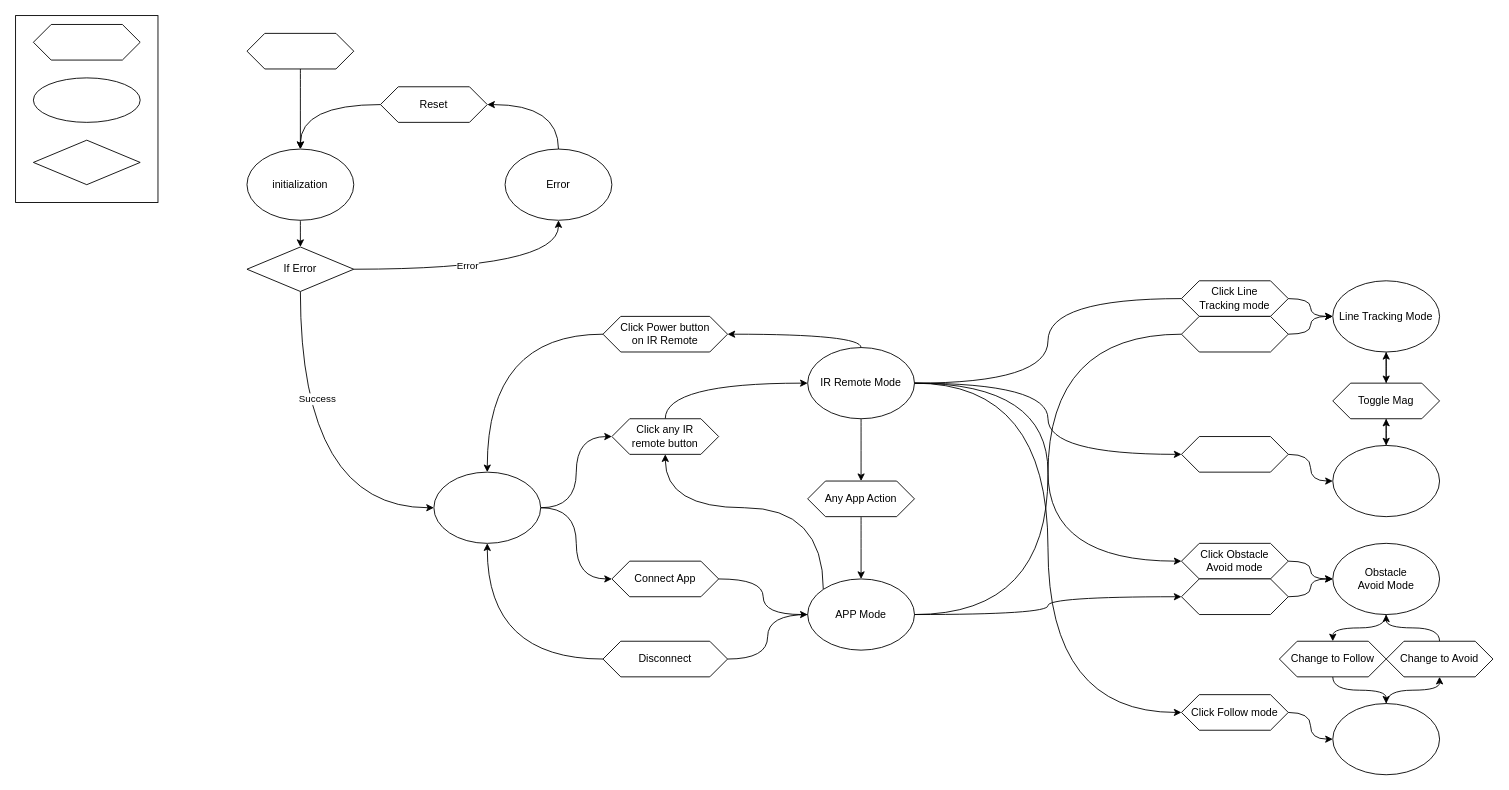
This 1509x790 diagram has some shape labels left out. Each missing label, with the centre of its shape:
"Change To Obstacle mode" goes at (1234,596).
"Change To Tracking mode" goes at (1234,334).
"Click No Mag Line Tracking mode" goes at (1234,454).
"Condition" goes at (86,162).
"Follow Mode" goes at (1386,739).
"IDLE" goes at (487,507).
"Line Tracking Mode No Mag" goes at (1386,481).
"State" goes at (86,99).
"Turn On" goes at (300,50).
"User Action" goes at (86,42).
